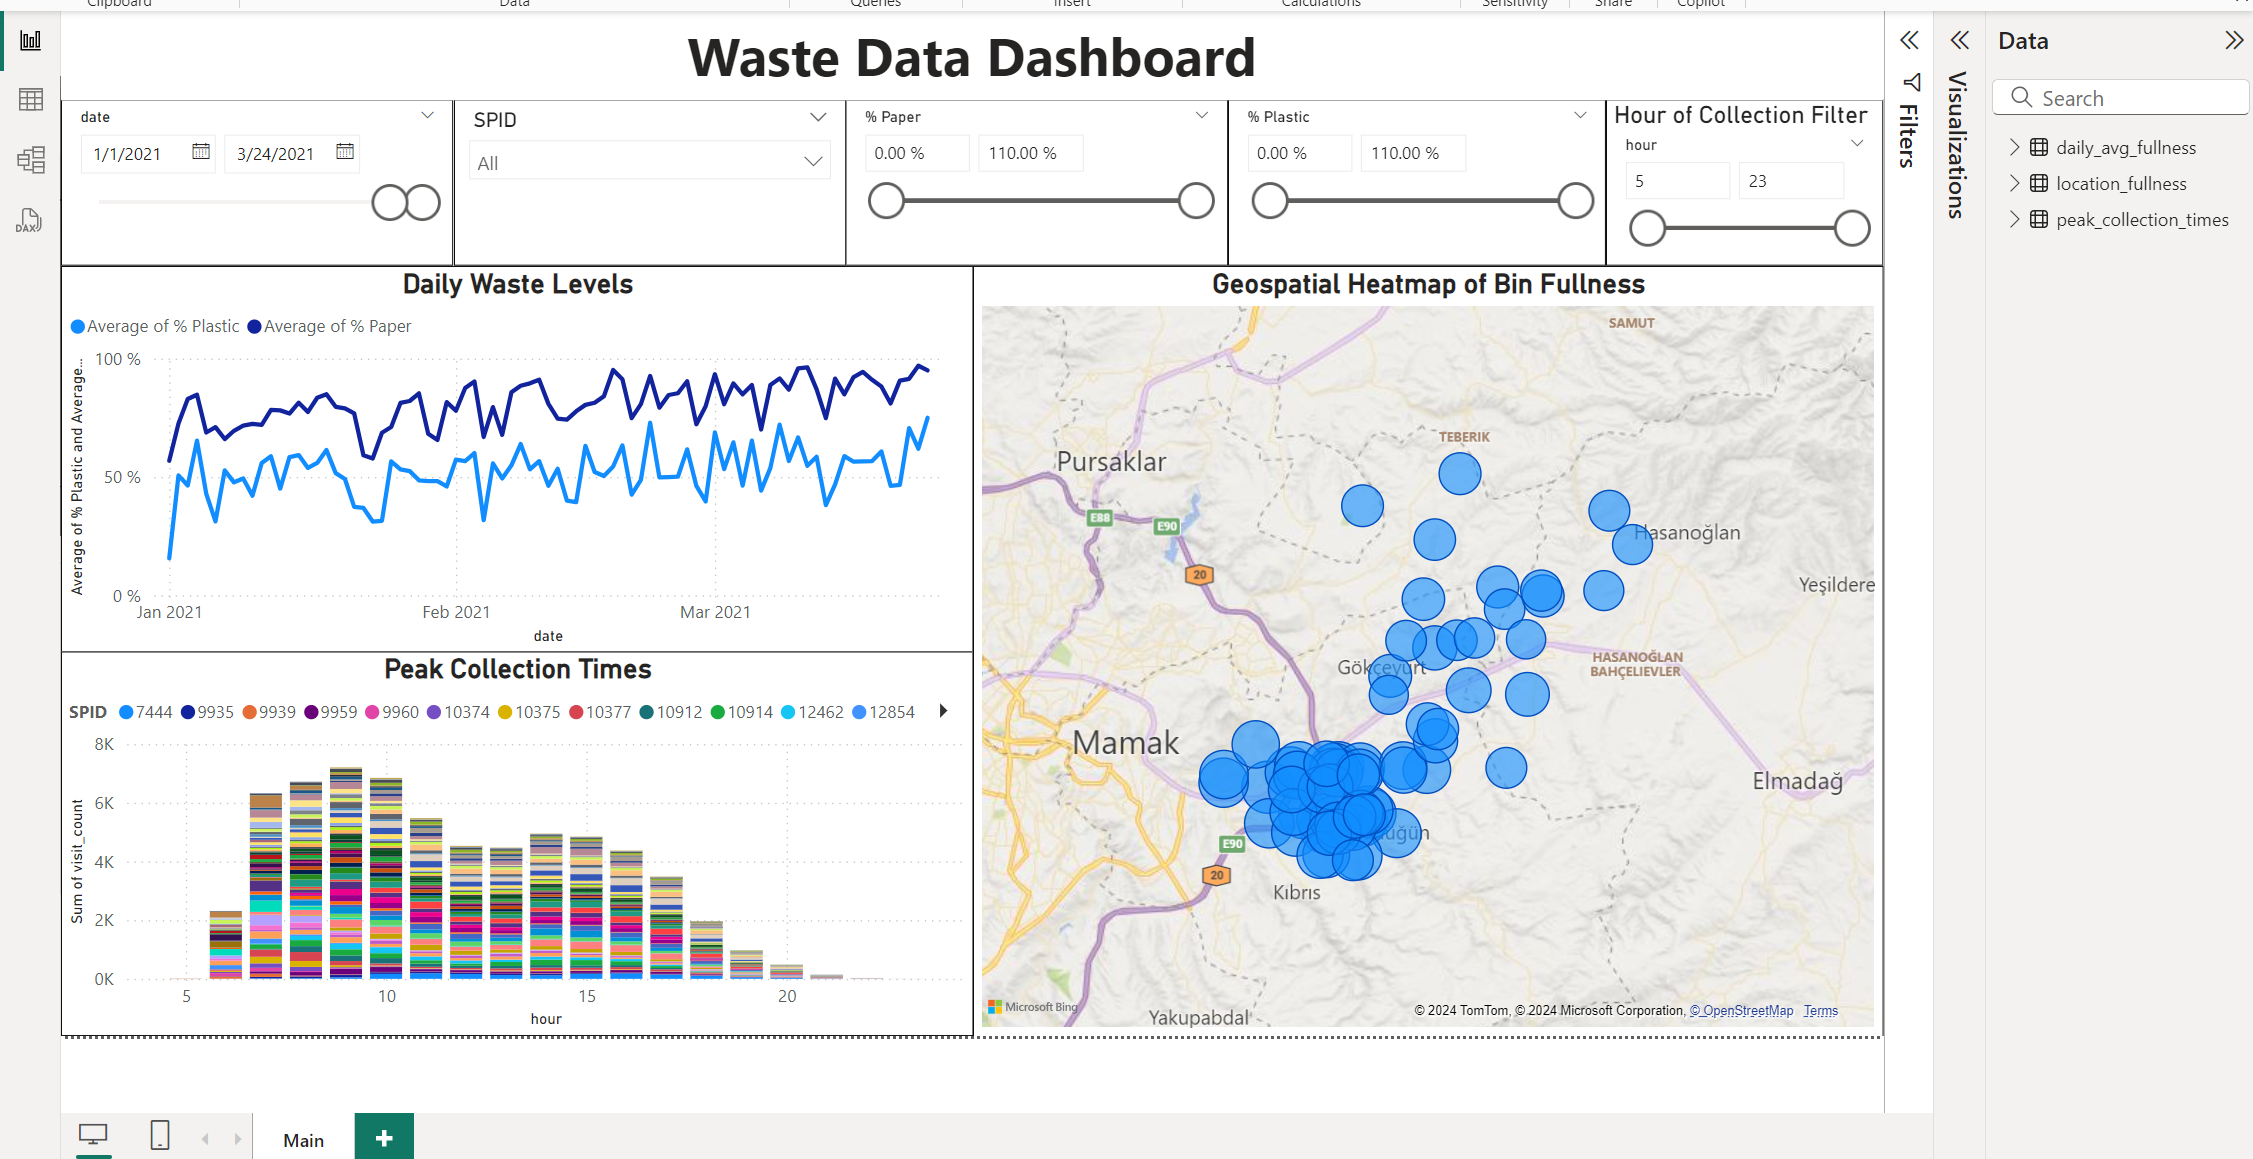

What the dashboard file says about the page in this screenshot:
{"tool":"powerbi","page":{"name":"Main","canvas":[1280,720],"ordinal":0},"visuals":[{"type":"lineChart","title":"Daily Waste Levels","fields":{"Y":["Avg(daily_avg_fullness.% Plastic)","Avg(daily_avg_fullness.% Paper)"],"Category":["daily_avg_fullness.date"]},"box":[0,178.9,640.5,271.2],"z":0},{"type":"slicer","fields":{"Values":["daily_avg_fullness.date"]},"box":[0,62.5,275.5,116.5],"z":1},{"type":"columnChart","title":"Peak Collection Times","fields":{"Category":["peak_collection_times.hour"],"Y":["Sum(peak_collection_times.visit_count)"],"Series":["peak_collection_times.SPID"]},"box":[0,450.2,640.5,269.8],"z":2},{"type":"slicer","fields":{"Values":["peak_collection_times.SPID"]},"box":[275.5,62.5,275.5,116.5],"z":3},{"type":"map","title":"Geospatial Heatmap of Bin Fullness","fields":{"Size":["location_fullness.Average Fullness"],"Y":["location_fullness.Latitude"],"X":["location_fullness.Longitude"]},"box":[640.5,178.9,639.1,541.1],"z":4},{"type":"slicer","fields":{"Values":["daily_avg_fullness.% Paper"]},"box":[551,62.5,268.4,116.5],"z":5},{"type":"slicer","fields":{"Values":["daily_avg_fullness.% Plastic"]},"box":[819.4,62.5,265.6,116.5],"z":6},{"type":"slicer","title":"Hour of Collection Filter","fields":{"Values":["peak_collection_times.hour"]},"box":[1085,62.5,194.6,116.5],"z":7},{"type":"textbox","box":[0,0,1279.5,62.5],"z":8}]}

Visuals, with their boxes on the page's 1280x720 design canvas (x1, y1, x2, y2). These are canvas units, not pixel positions in the 2253x1159 screenshot, which may show the page scaled, cropped or inside an application window:
"Daily Waste Levels" lineChart: {"left": 0, "top": 179, "right": 640, "bottom": 450}
slicer - daily_avg_fullness.date: {"left": 0, "top": 62, "right": 276, "bottom": 179}
"Peak Collection Times" columnChart: {"left": 0, "top": 450, "right": 640, "bottom": 720}
slicer - peak_collection_times.SPID: {"left": 276, "top": 62, "right": 551, "bottom": 179}
"Geospatial Heatmap of Bin Fullness" map: {"left": 640, "top": 179, "right": 1280, "bottom": 720}
slicer - daily_avg_fullness.% Paper: {"left": 551, "top": 62, "right": 819, "bottom": 179}
slicer - daily_avg_fullness.% Plastic: {"left": 819, "top": 62, "right": 1085, "bottom": 179}
"Hour of Collection Filter" slicer: {"left": 1085, "top": 62, "right": 1280, "bottom": 179}
textbox: {"left": 0, "top": 0, "right": 1280, "bottom": 62}
